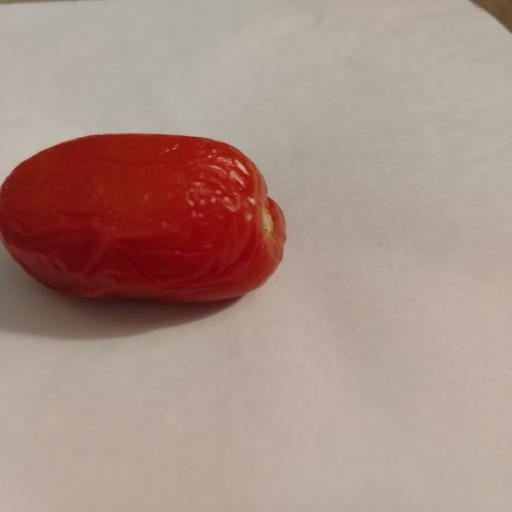spoiled: (0, 134, 286, 302)
